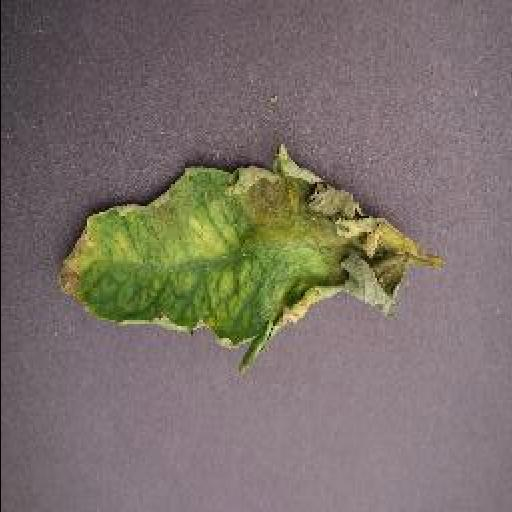disease_tomato: (50, 140, 412, 370)
